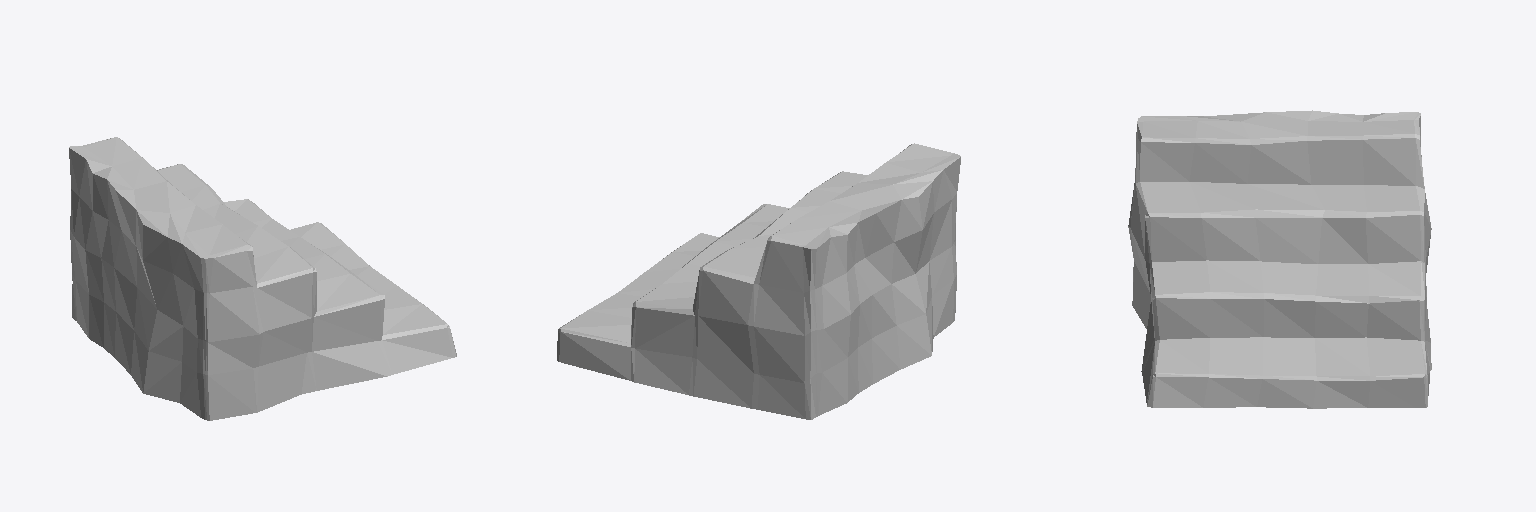
Rendered from stairs.obj.
3 views of the same model, side by side, from view 1: azimuth 30°, elevation 25°; view 2: azimuth 150°, elevation 25°; view 3: azimuth 270°, elevation 25° (orthographic).
Parts seen in each view (by area): view 1: stairs_BSurfaceMesh; view 2: stairs_BSurfaceMesh; view 3: stairs_BSurfaceMesh.
Part boxes in pixels (x1,y1,x2,y2): stairs_BSurfaceMesh: (69, 137, 456, 420); stairs_BSurfaceMesh: (557, 143, 960, 419); stairs_BSurfaceMesh: (1128, 110, 1431, 408).
Bounding box in the file's own units: 1.8 × 1.09 × 1.71.